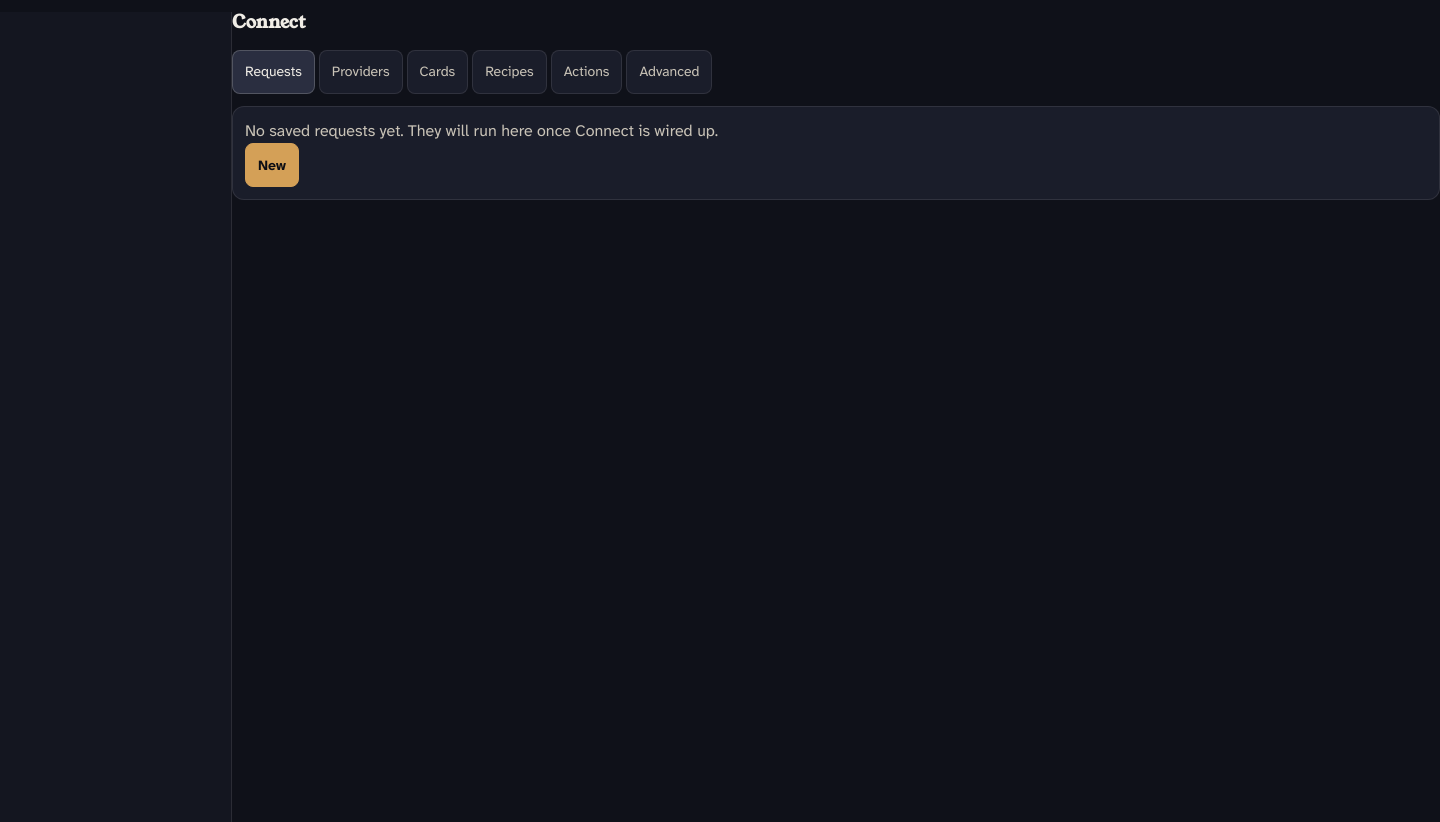
Test: Connect › an unconfirmed result is never shown bare
Click the tab "Actions".
click(586, 72)  # box [551,50,622,94]
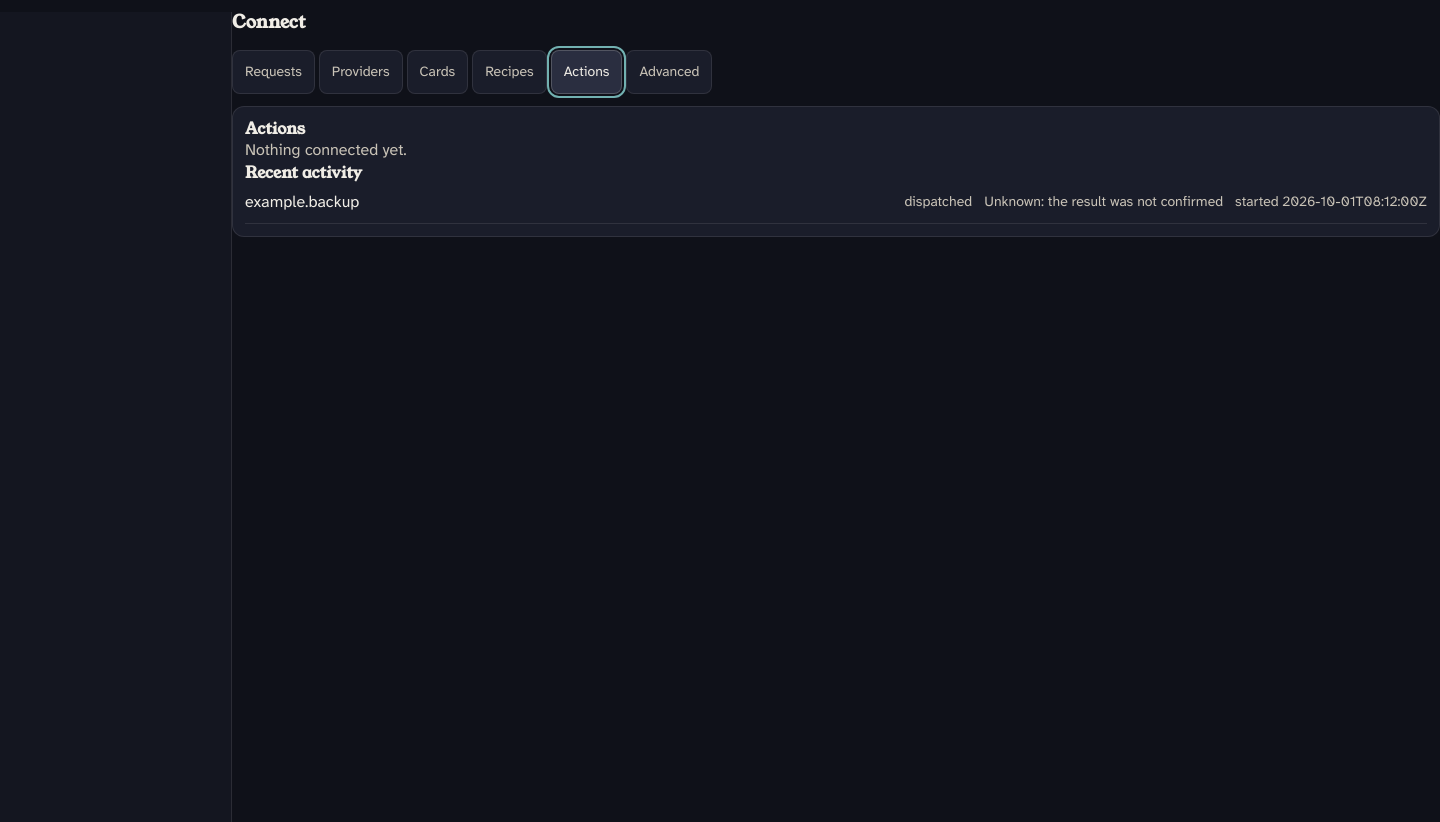
Check: the panel does not show "UNKNOWN"
Check: the text "Unknown: the result was not confirmed" is shown, box [984,191,1223,213]
